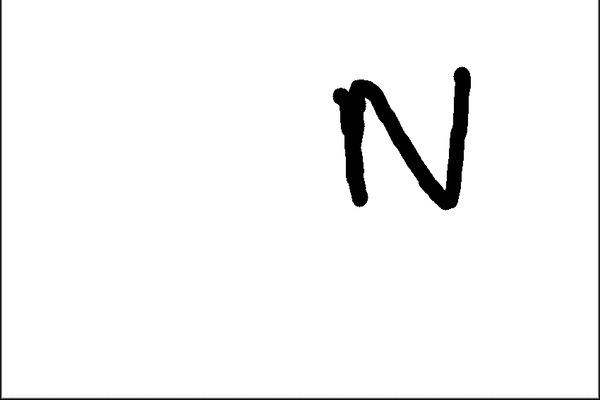N: (325, 61, 472, 212)
